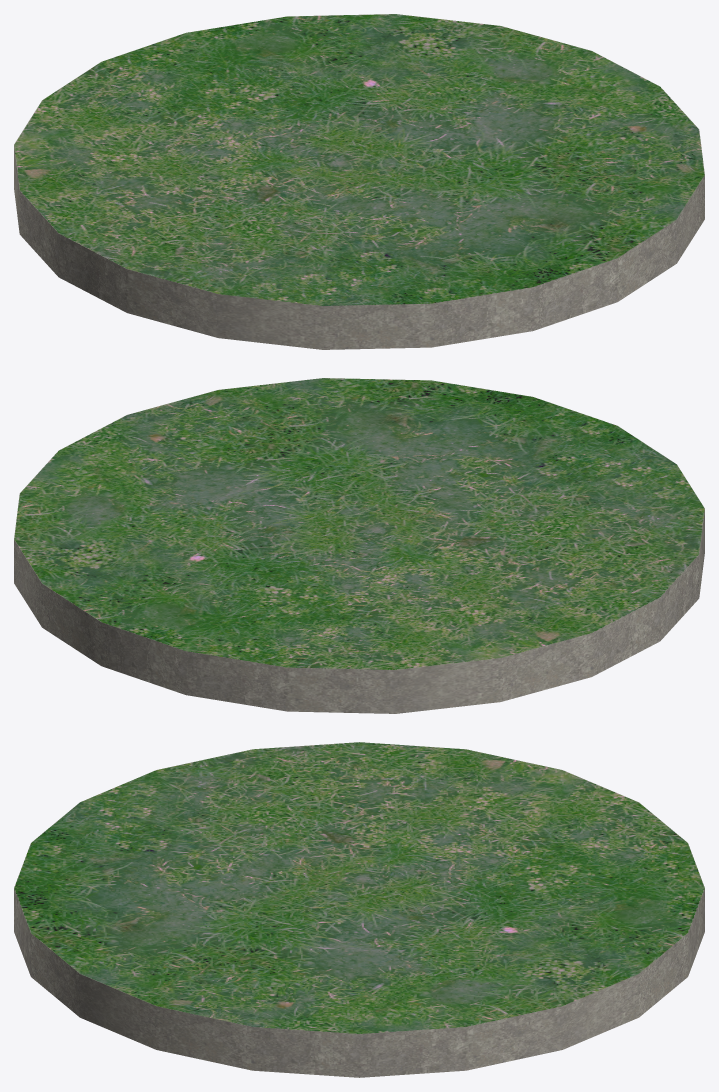
The model's file is grama.obj.
3 views of the same model, one above another, from view 1: azimuth 30°, elevation 25°; view 2: azimuth 150°, elevation 25°; view 3: azimuth 270°, elevation 25° (orthographic).
Parts seen in each view (by area): view 1: pCylinder32; view 2: pCylinder32; view 3: pCylinder32.
Boxes of the visible parts, x1,y1,x2,y2 form: pCylinder32: (14, 14, 704, 349); pCylinder32: (14, 378, 704, 713); pCylinder32: (14, 742, 704, 1077).
Size of the model in its own units: 13.1 by 0.9145 by 13.1.
Materials: 1 (1 with a texture image).
